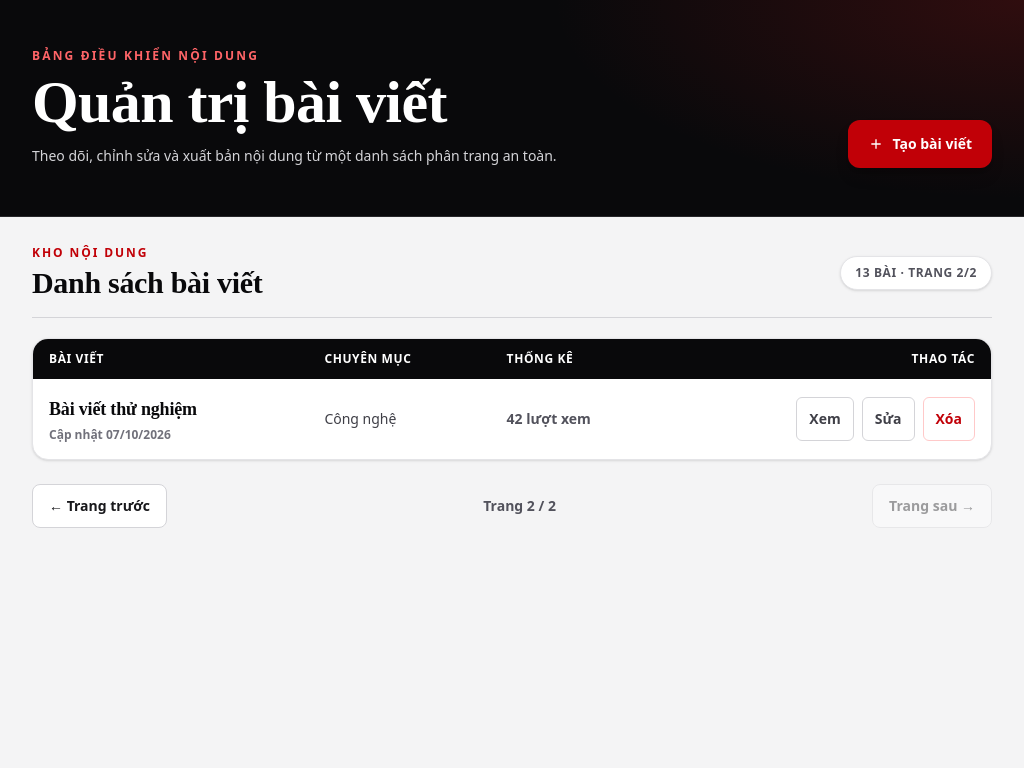
AdminPostsPage › lùi một trang khi xóa bài cuối cùng của trang hiện tại
Click the button with aria-label "Xóa Bài viết thử nghiệm": (949, 419) [922, 397, 975, 441]
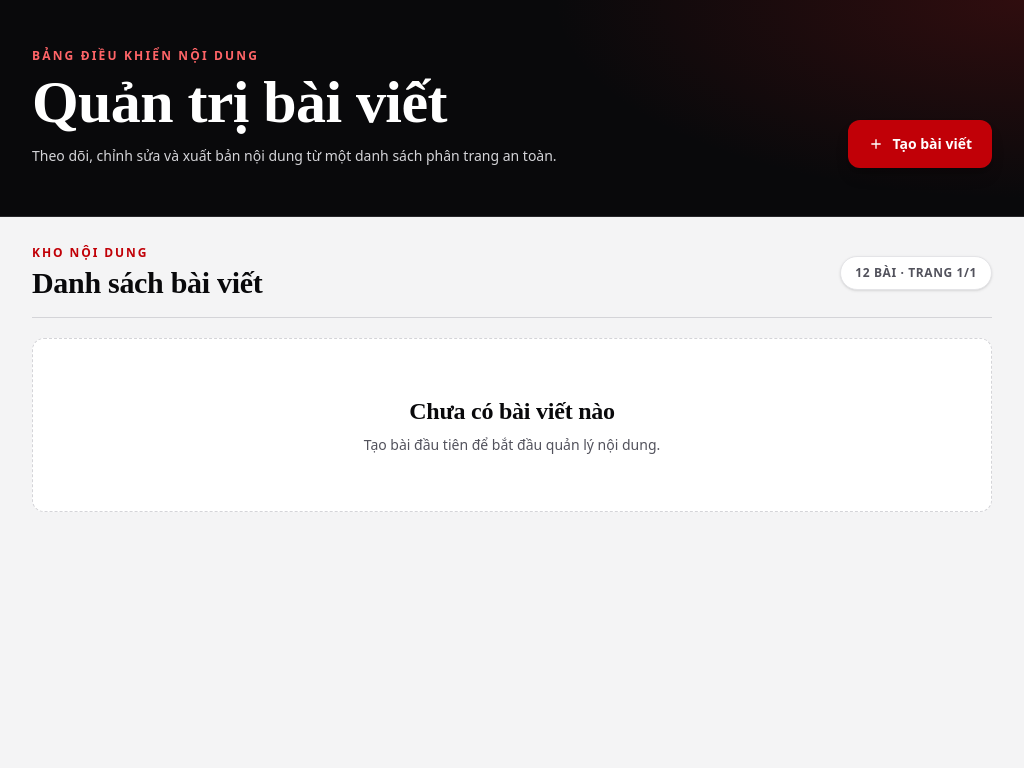
Check: the heading "Chưa có bài viết nào" is shown, box [409, 398, 615, 424]
